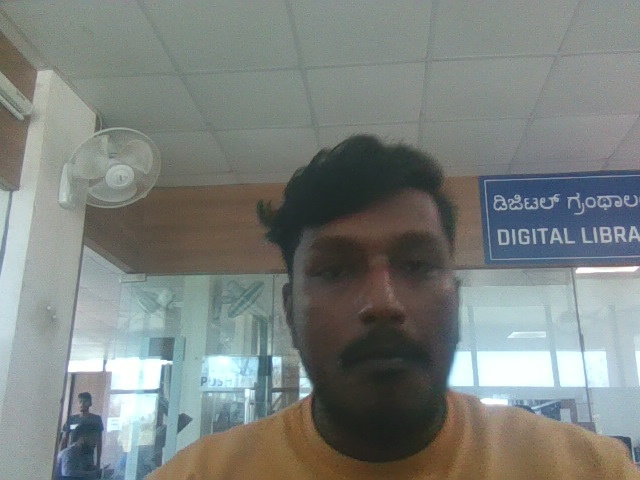real: (266, 117, 490, 434)
